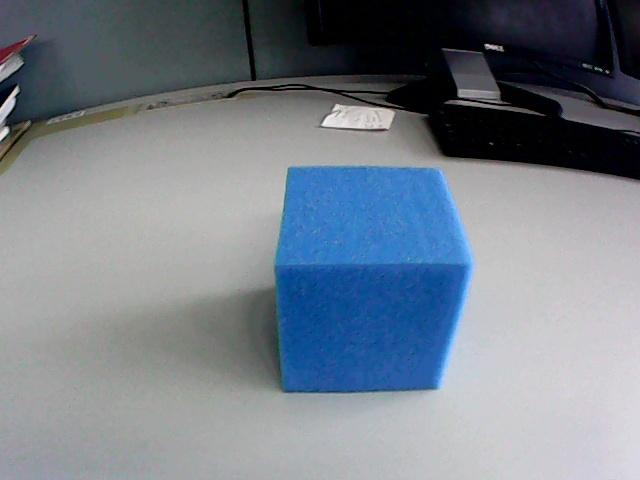blue_block: (275, 167, 472, 391)
